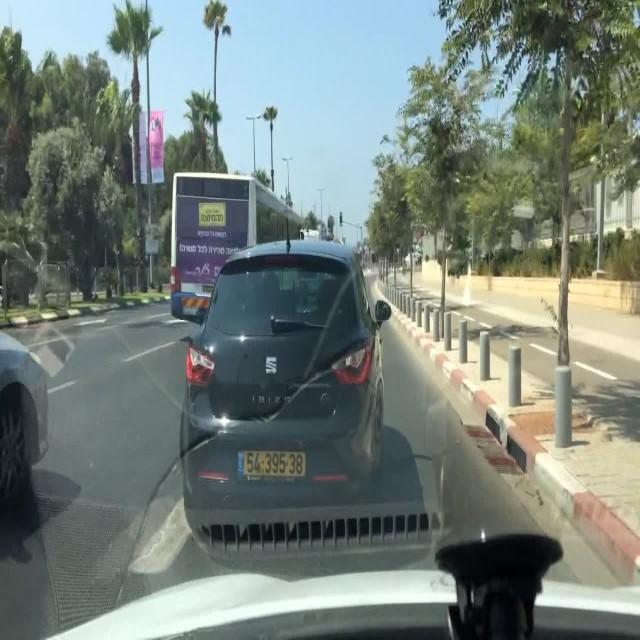normal: (170, 224, 389, 563), (174, 176, 300, 322), (169, 283, 211, 319)
